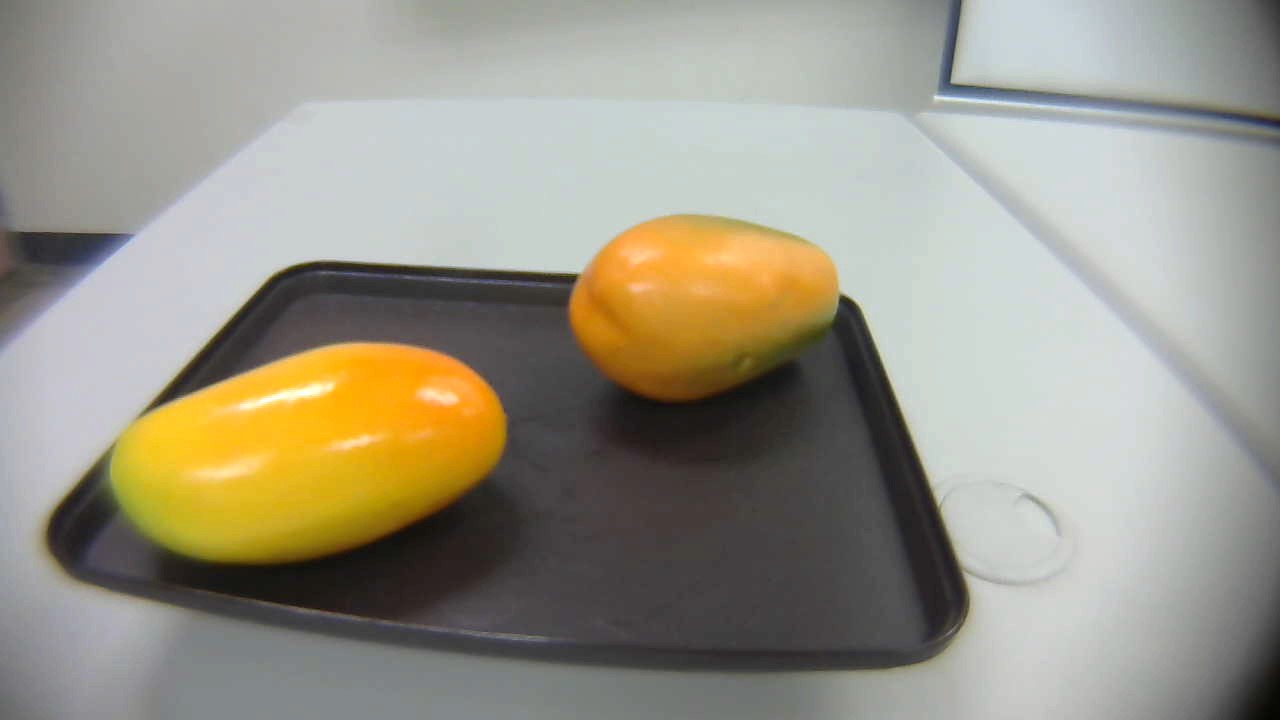papya: (554, 205, 854, 413)
yellow mango: (91, 329, 531, 584)
